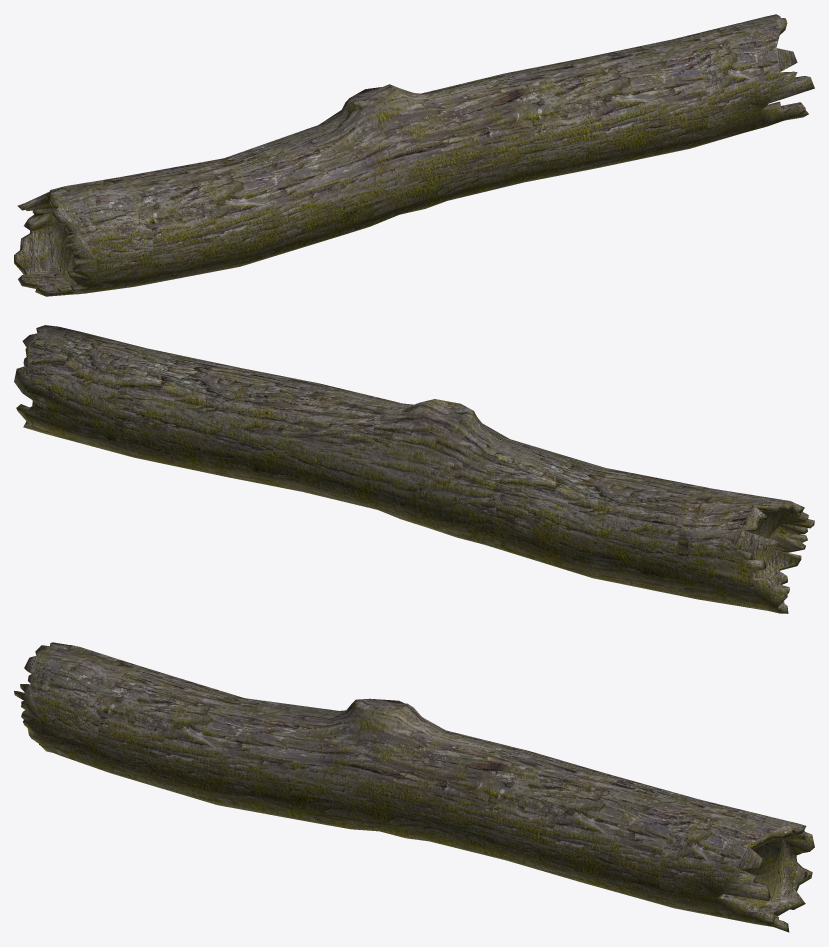
Rendered from tronco_viejo_2.fbx.
The picture shows the model from 3 angles, top to bottom: view 1: azimuth 30°, elevation 25°; view 2: azimuth 150°, elevation 25°; view 3: azimuth 330°, elevation 25°; orthographic projection.
Parts seen in each view (by area): view 1: tronco_viejo_2; view 2: tronco_viejo_2; view 3: tronco_viejo_2.
Boxes of the visible parts, left/top/right/bottom form: tronco_viejo_2: left=14, top=14, right=814, bottom=296; tronco_viejo_2: left=14, top=325, right=814, bottom=613; tronco_viejo_2: left=14, top=642, right=814, bottom=932.
Bounding box in the file's own units: 689 × 112 × 86.39.
